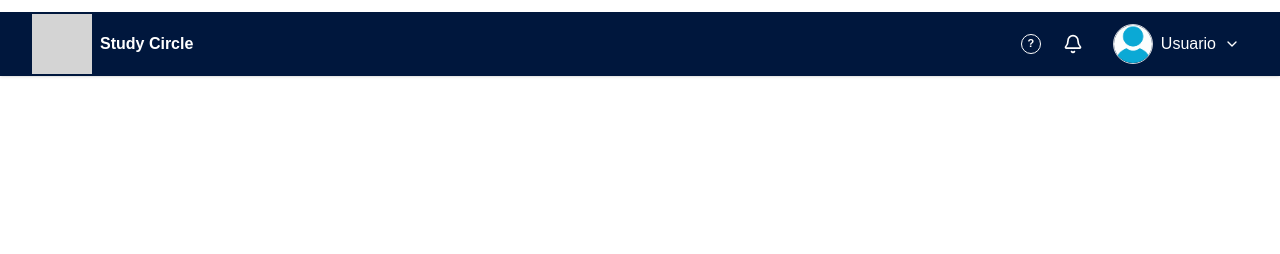
Test: Notification › Toggle Bell
Click the button titled "Notificaciones". click: (1073, 44)
box: [1053,24,1093,64]
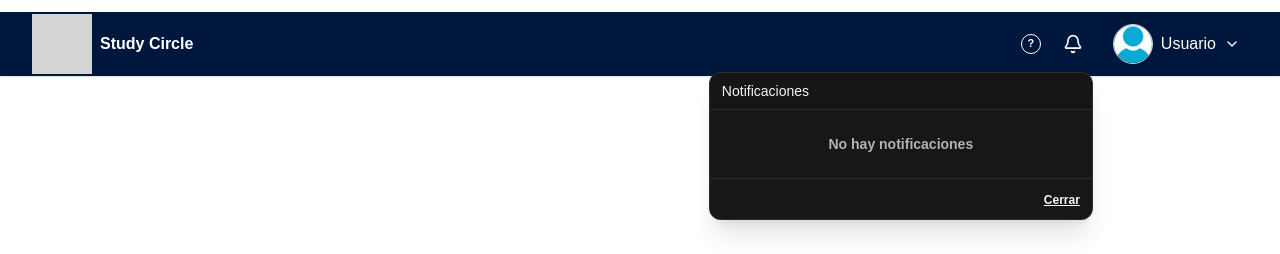
Result: the text "No hay notificaciones" is shown at [828,136,973,152]
Click the button titled "Notificaciones". click: (1073, 44)
box: [1053,24,1093,64]
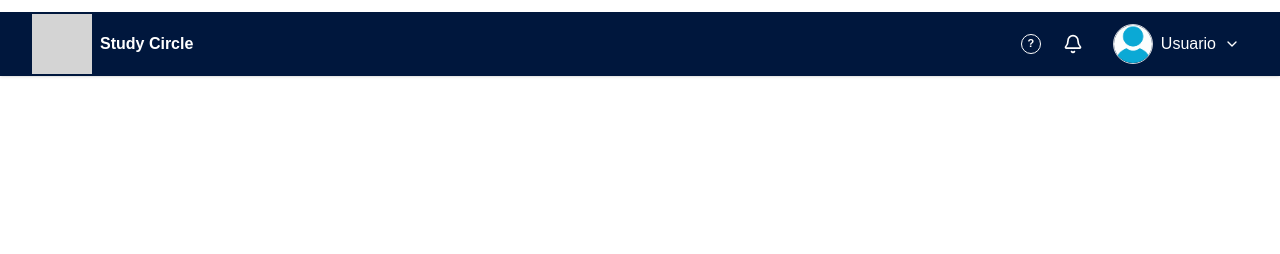
Result: the text "No hay notificaciones" is gone
